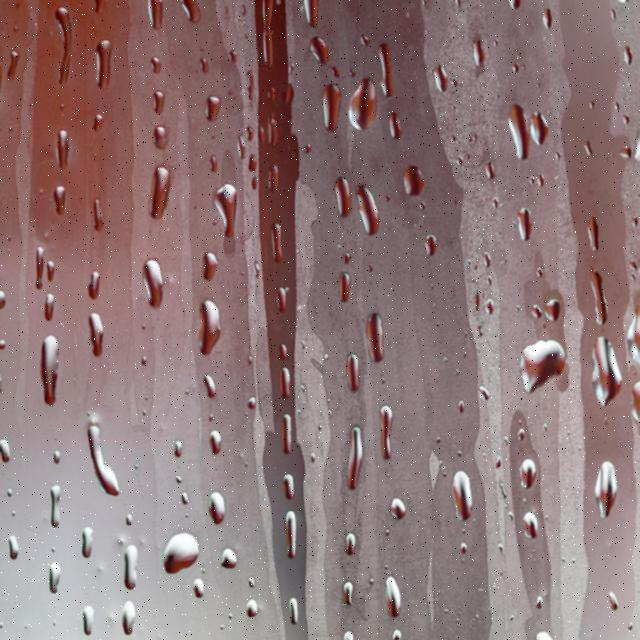raindrop: (570, 318, 624, 428), (74, 416, 136, 502), (184, 288, 236, 374), (584, 442, 628, 536), (518, 332, 572, 408), (159, 518, 202, 596), (37, 324, 68, 426), (498, 89, 532, 179), (204, 172, 240, 253), (342, 72, 383, 143), (368, 390, 398, 482), (135, 244, 175, 313), (340, 426, 372, 512), (362, 299, 391, 381), (349, 182, 386, 246), (394, 150, 432, 211), (114, 540, 152, 596), (336, 342, 367, 410), (444, 462, 474, 530), (198, 484, 234, 540), (42, 474, 72, 540), (276, 508, 308, 568), (316, 74, 348, 134), (88, 27, 114, 99), (296, 33, 338, 76), (273, 404, 305, 460), (380, 564, 408, 626), (190, 230, 218, 292), (263, 214, 295, 268), (86, 308, 112, 372), (147, 157, 175, 212), (326, 172, 356, 223), (50, 115, 73, 179), (198, 89, 224, 142), (528, 100, 552, 157)
